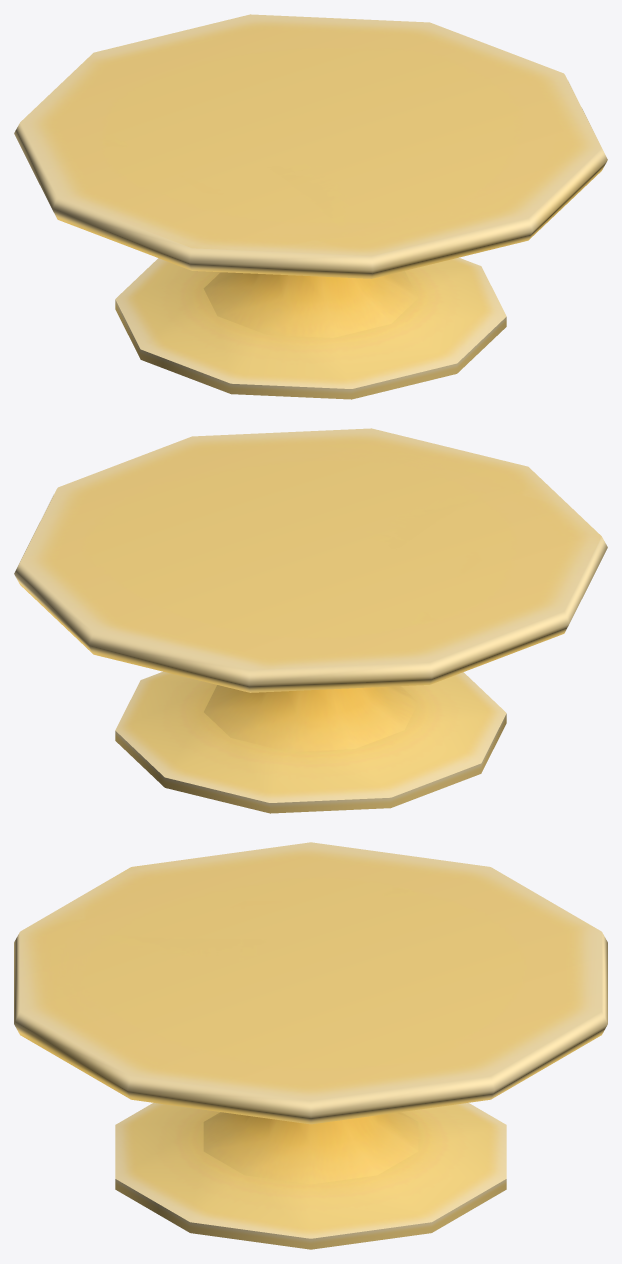
File: Yellow_Display_Small.fbx
3 renders of one model, top to bottom at view 1: azimuth 30°, elevation 25°; view 2: azimuth 150°, elevation 25°; view 3: azimuth 270°, elevation 25°, orthographic. The views are drawn at different scales.
Visible parts, largest first — view 1: Yellow_Display_Small; view 2: Yellow_Display_Small; view 3: Yellow_Display_Small.
Part boxes in pixels (x1,y1,x2,y2): Yellow_Display_Small: (14,14,607,399); Yellow_Display_Small: (14,428,607,813); Yellow_Display_Small: (14,842,607,1249).
Size of the model in its own units: 58.76 by 19.85 by 55.88.
